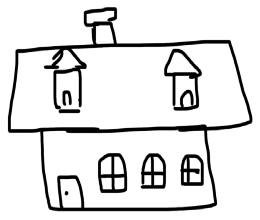big_house: (0, 0, 259, 218)
chimney: (74, 2, 129, 52)
closed_window: (90, 147, 132, 197), (137, 150, 170, 196), (174, 148, 207, 193)
door: (52, 164, 93, 216)
roof: (7, 34, 258, 137)
wall: (28, 122, 225, 215)
